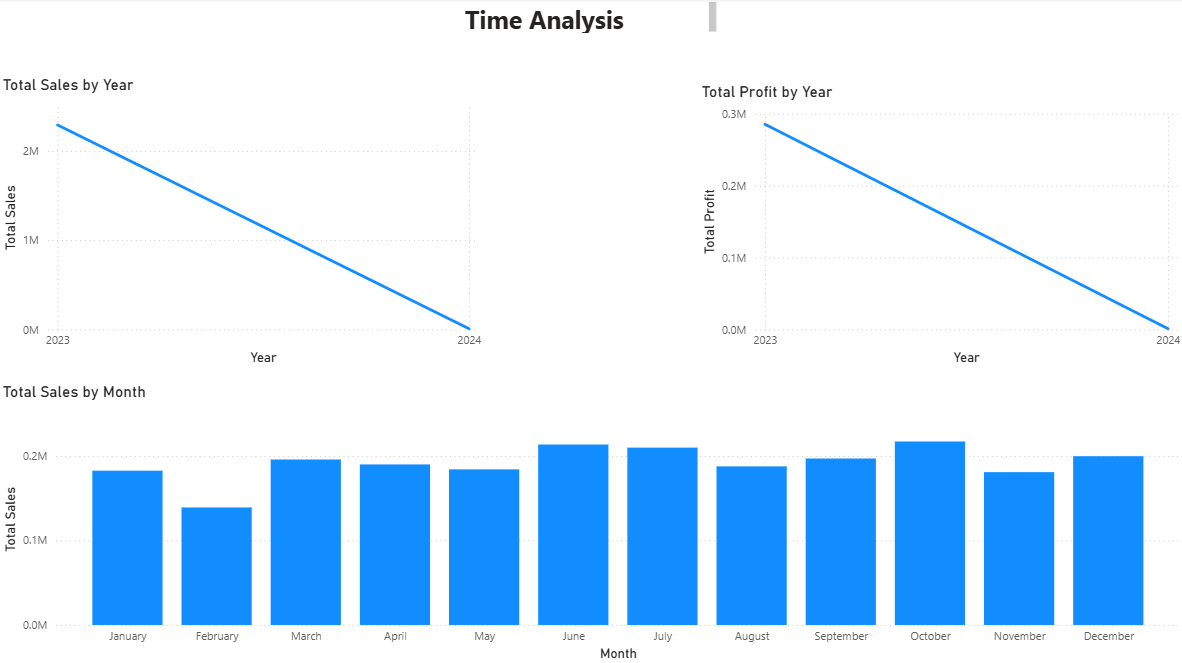

The dashboard page shown, as its layout file describes it:
{"tool":"powerbi","page":{"name":"Page 5","canvas":[1280,720],"ordinal":4},"visuals":[{"type":"textbox","box":[498.7,0,281.7,43.7],"z":0},{"type":"lineChart","fields":{"Category":["SampleSuperstore.Order Date.Variation.Date Hierarchy.Year","SampleSuperstore.Order Date.Variation.Date Hierarchy.Quarter","SampleSuperstore.Order Date.Variation.Date Hierarchy.Month","SampleSuperstore.Order Date.Variation.Date Hierarchy.Day"],"Y":["SampleSuperstore.Total Sales"]},"box":[0,84.2,526.2,317.4],"z":1000},{"type":"lineChart","fields":{"Category":["SampleSuperstore.Order Date.Variation.Date Hierarchy.Year","SampleSuperstore.Order Date.Variation.Date Hierarchy.Quarter","SampleSuperstore.Order Date.Variation.Date Hierarchy.Month","SampleSuperstore.Order Date.Variation.Date Hierarchy.Day"],"Y":["SampleSuperstore.Total Profit"]},"box":[754.6,84.2,526.2,309.3],"z":2000},{"type":"clusteredColumnChart","fields":{"Category":["SampleSuperstore.Order Date.Variation.Date Hierarchy.Month"],"Y":["SampleSuperstore.Total Sales"]},"box":[0,416.1,1280.8,304.4],"z":3000}]}

Visuals, with their boxes in screenshot pixels (x1, y1, x2, y2), scaled from the page's 1280x720 canvas onto the 1182x663 screenshot:
textbox: (left=461, top=0, right=721, bottom=40)
lineChart - SampleSuperstore.Order Date.Variation.Date Hierarchy.Year x SampleSuperstore.Order Date.Variation.Date Hierarchy.Quarter: (left=0, top=78, right=486, bottom=370)
lineChart - SampleSuperstore.Order Date.Variation.Date Hierarchy.Year x SampleSuperstore.Order Date.Variation.Date Hierarchy.Quarter: (left=697, top=78, right=1181, bottom=362)
clusteredColumnChart - SampleSuperstore.Order Date.Variation.Date Hierarchy.Month x SampleSuperstore.Total Sales: (left=0, top=383, right=1181, bottom=662)
